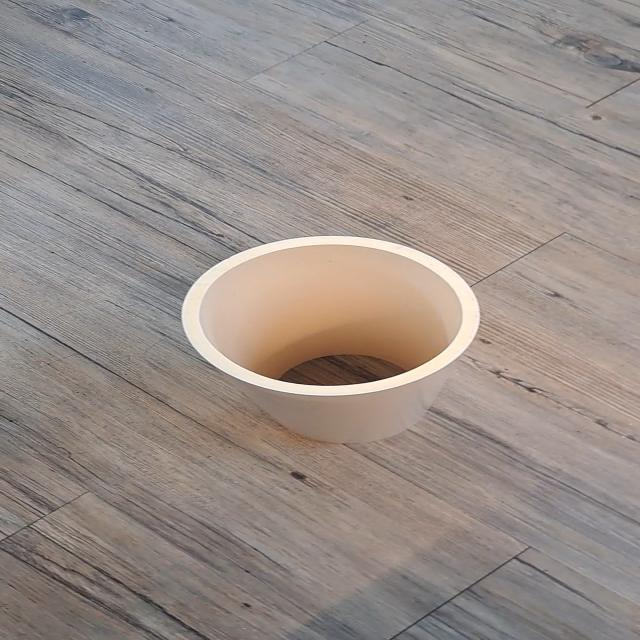CORAL: (149, 222, 492, 464)
